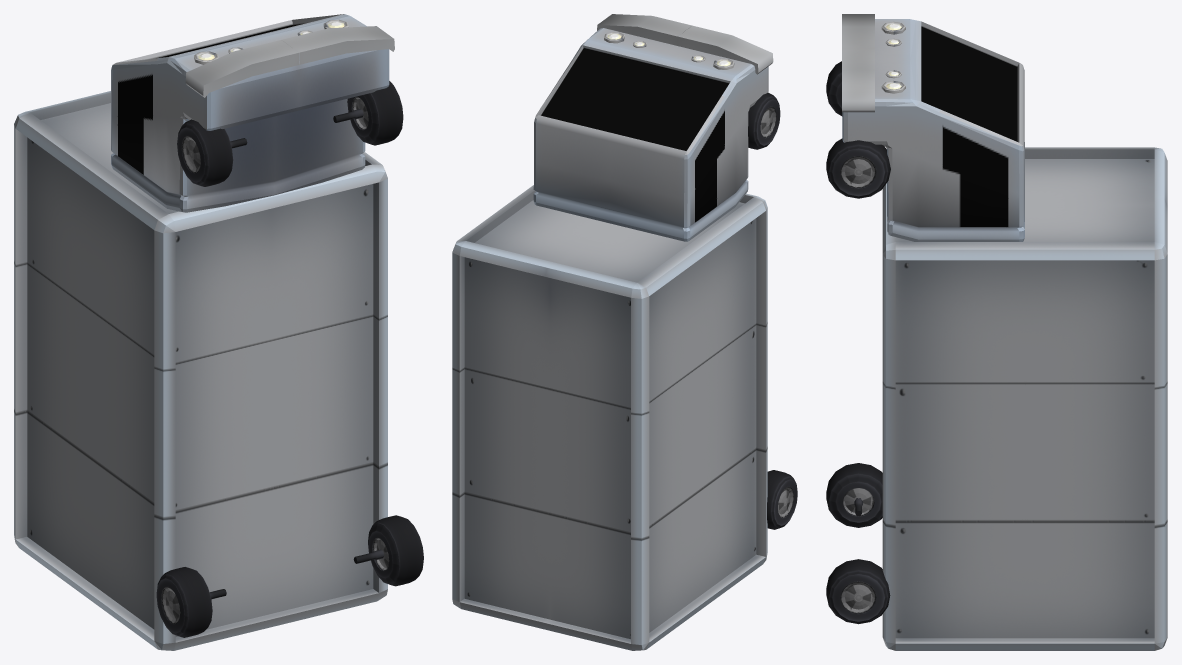
File: Truck02.FBX
3 views of the same model, side by side, from view 1: azimuth 30°, elevation 25°; view 2: azimuth 150°, elevation 25°; view 3: azimuth 270°, elevation 25° (orthographic). The views are drawn at different scales.
Visible parts, largest first — view 1: Truck02, Truck02Wheels; view 2: Truck02, Truck02Wheels; view 3: Truck02, Truck02Wheels.
Part boxes in pixels (bbox=[...]): Truck02: bbox=[14, 14, 394, 650]; Truck02Wheels: bbox=[156, 81, 423, 637]; Truck02: bbox=[452, 14, 773, 650]; Truck02Wheels: bbox=[748, 92, 797, 529]; Truck02: bbox=[842, 14, 1167, 650]; Truck02Wheels: bbox=[826, 61, 890, 624].
Size of the model in its own units: 12.39 by 16.41 by 29.37.
